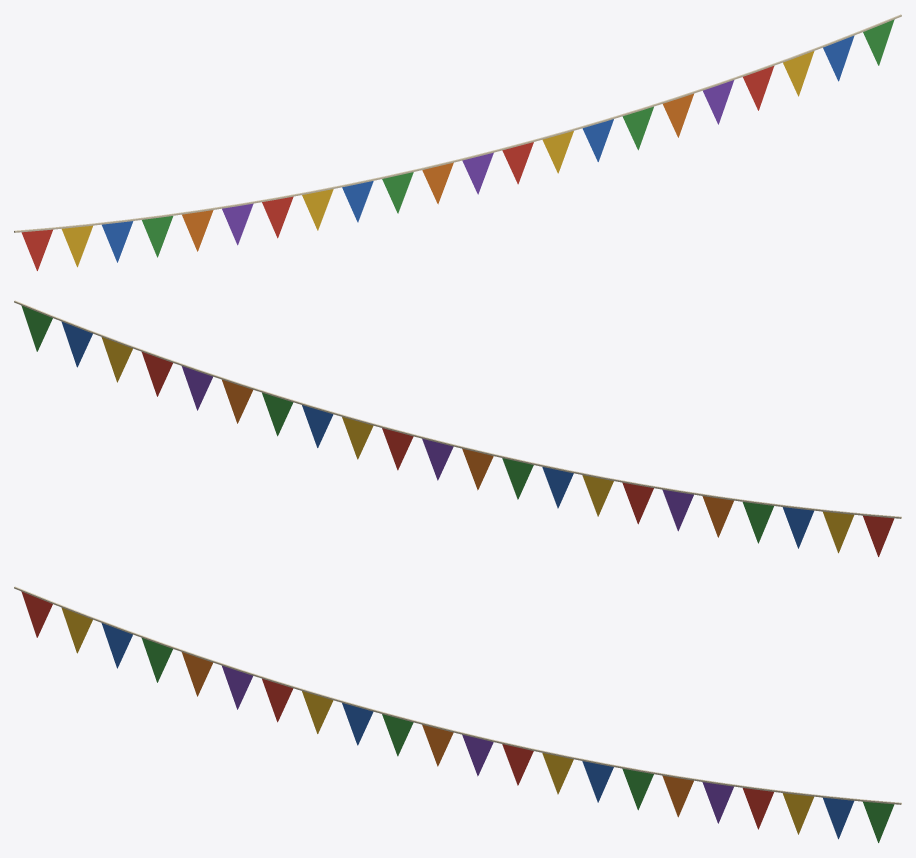
Rendered from bunting.glb.
3 views of the same model, one above another, from view 1: azimuth 30°, elevation 25°; view 2: azimuth 150°, elevation 25°; view 3: azimuth 330°, elevation 25° (orthographic).
Visible parts, largest first — view 1: bunting; view 2: bunting; view 3: bunting.
Boxes of the visible parts, x1,y1,x2,y2 form: bunting: [14, 14, 901, 270]; bunting: [14, 300, 901, 556]; bunting: [14, 586, 901, 842].
Size of the model in its own units: 21.41 by 1.77 by 0.035.
